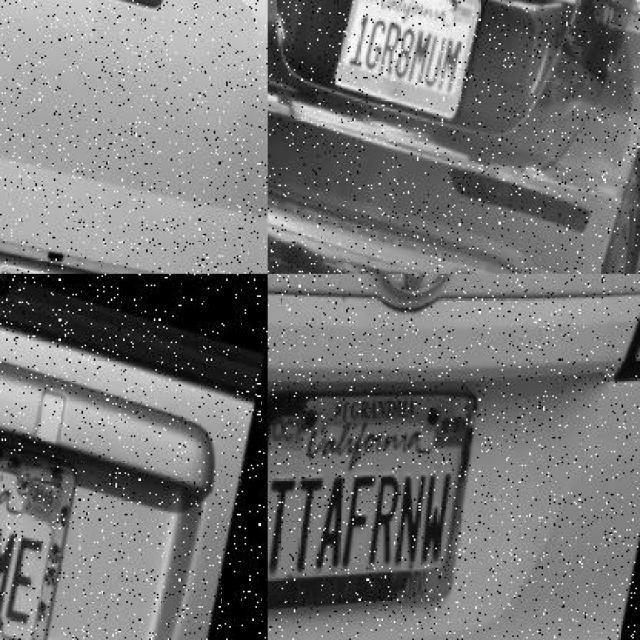LicensePlate: (267, 383, 471, 607), (0, 387, 141, 640), (328, 0, 477, 115)
